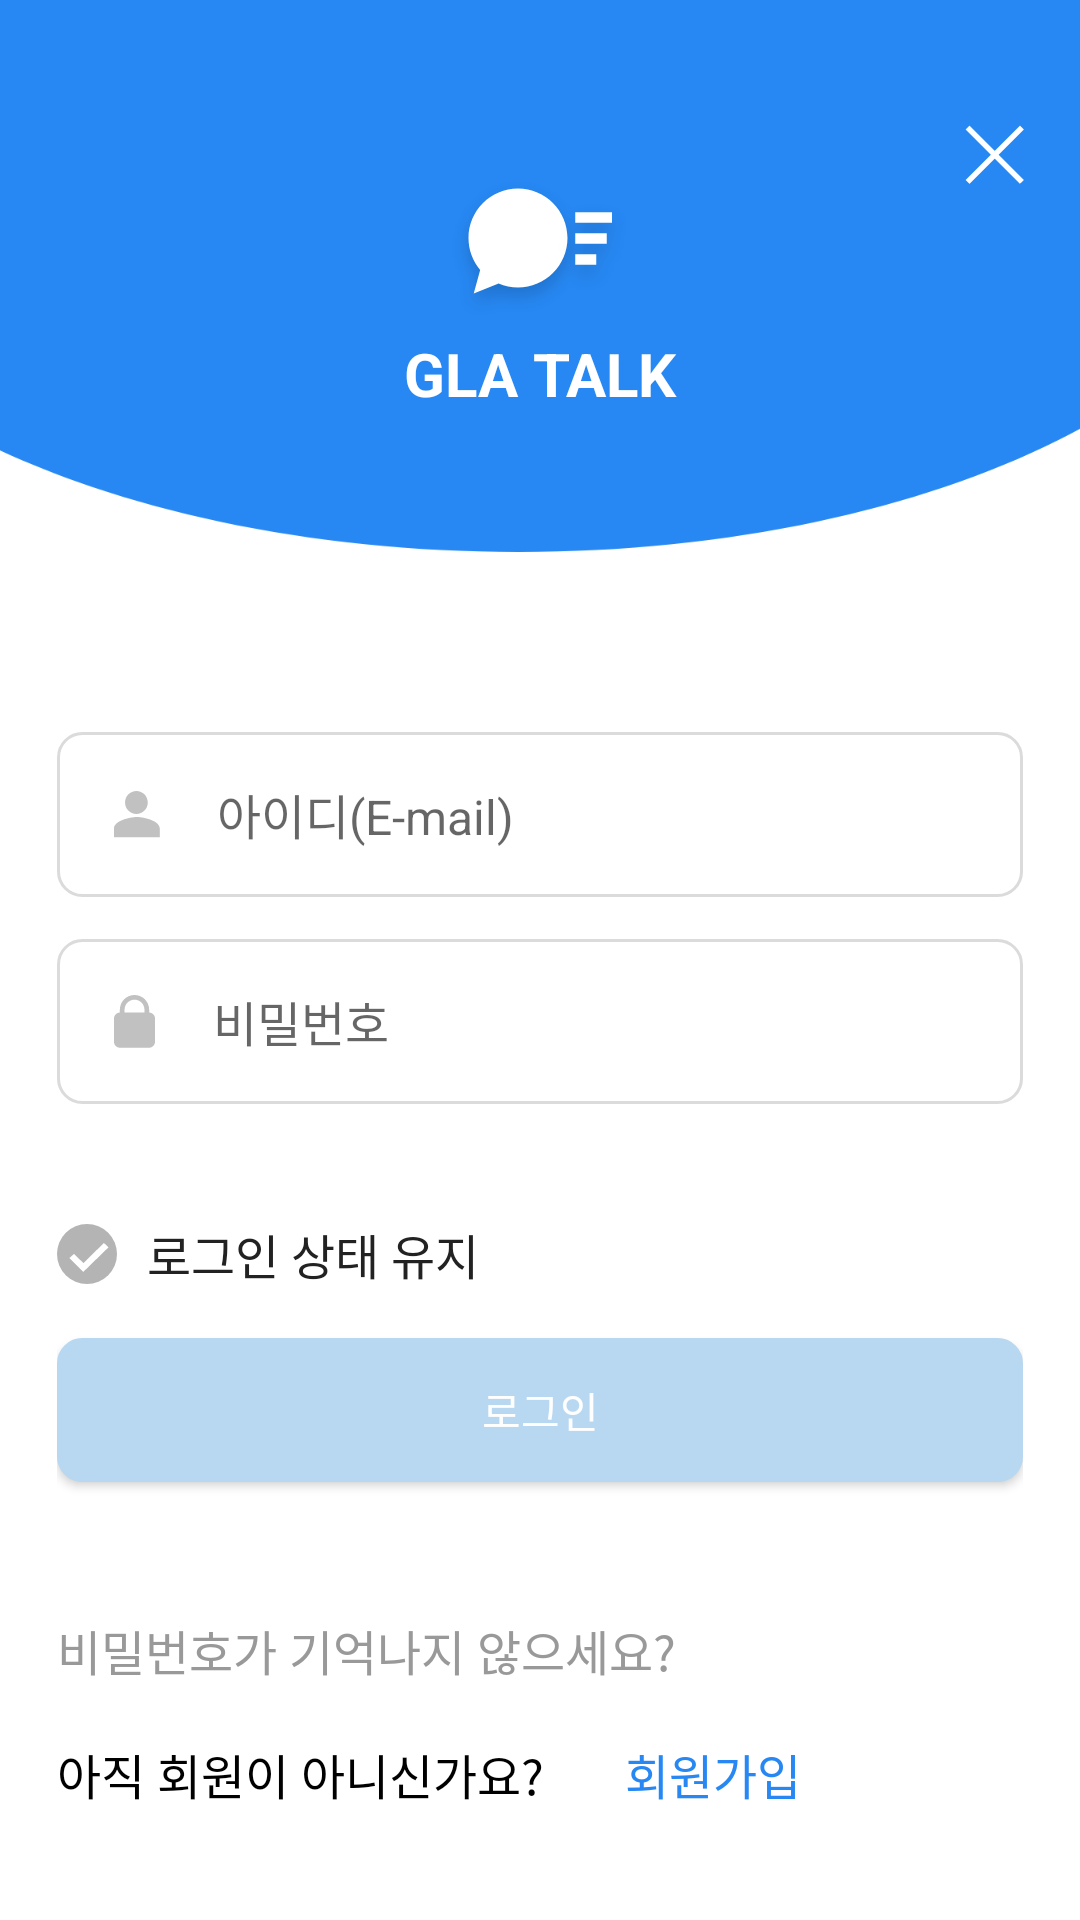

Locate icon controls on the screen. Image size 1080 x 1920, boxes as (x1, y1, x2, y2).
check off: (57, 1224, 117, 1284)
close: (965, 125, 1024, 184)
